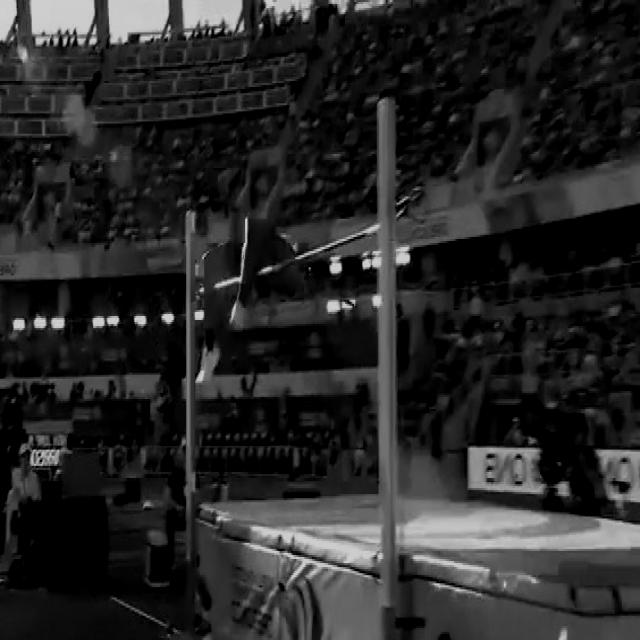land: (195, 218, 320, 386)
